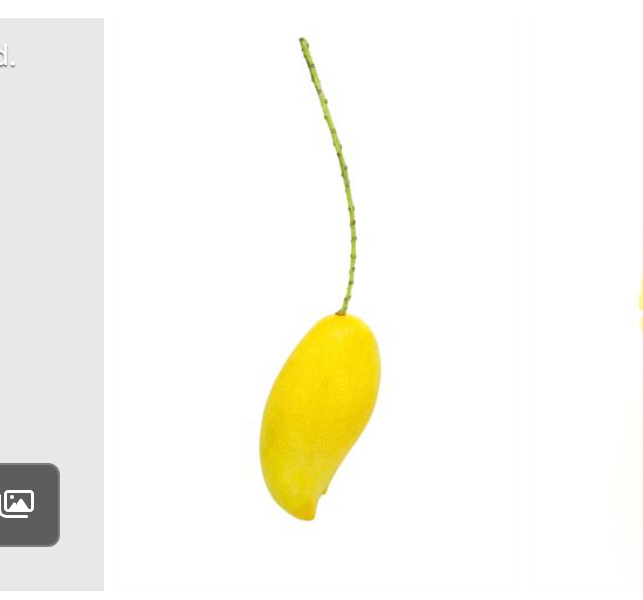mango: (264, 312, 380, 518)
